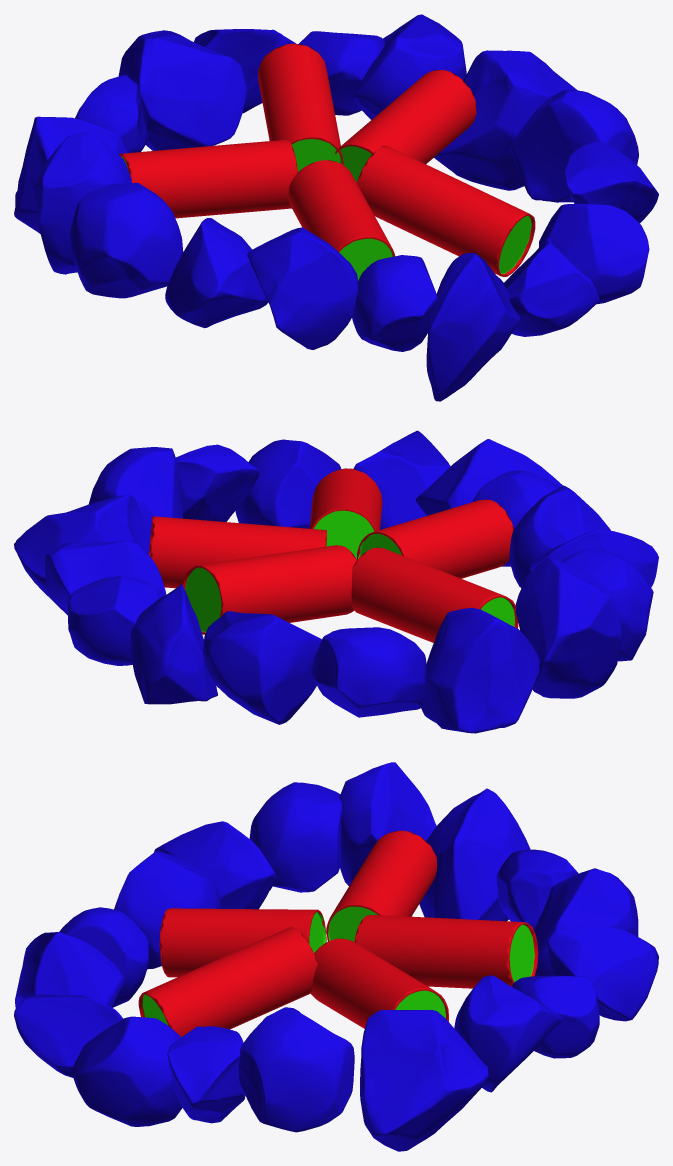
The model's file is Campfire.FBX.
3 views of the same model, one above another, from view 1: azimuth 30°, elevation 25°; view 2: azimuth 150°, elevation 25°; view 3: azimuth 270°, elevation 25° (orthographic).
Parts seen in each view (by area): view 1: Campfire; view 2: Campfire; view 3: Campfire.
Part boxes in pixels (bbox=[...]): Campfire: bbox=[14, 14, 658, 401]; Campfire: bbox=[14, 430, 658, 733]; Campfire: bbox=[14, 762, 658, 1151].
Bounding box in the file's own units: 2.66 × 2.57 × 0.8034.
